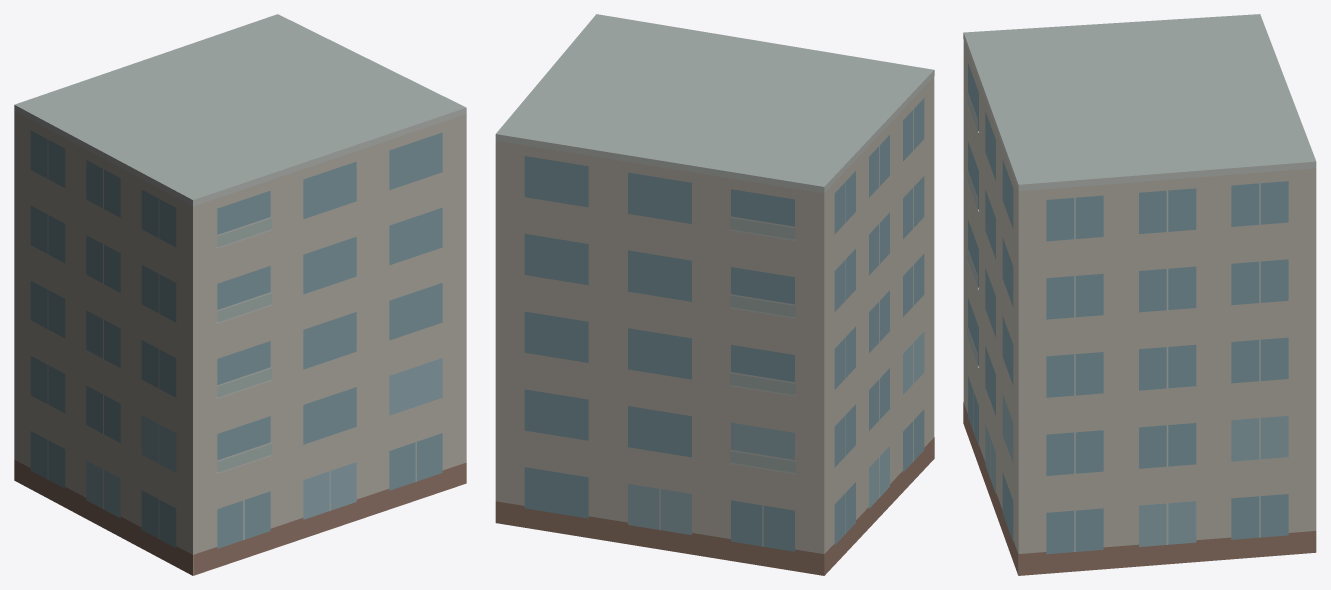
The model's file is survey-upis-32493272.glb.
The picture shows the model from 3 angles, left to right: view 1: azimuth 30°, elevation 25°; view 2: azimuth 150°, elevation 25°; view 3: azimuth 270°, elevation 25°; orthographic projection. The views are drawn at different scales.
Visible parts, largest first — view 1: survey-upis-32493272.tmp; view 2: survey-upis-32493272.tmp; view 3: survey-upis-32493272.tmp.
Boxes of the visible parts, <box> form: survey-upis-32493272.tmp: <box>14,14,466,575</box>; survey-upis-32493272.tmp: <box>495,14,934,575</box>; survey-upis-32493272.tmp: <box>963,14,1316,575</box>.
Size of the model in its own units: 13.69 by 14.6 by 11.95.
